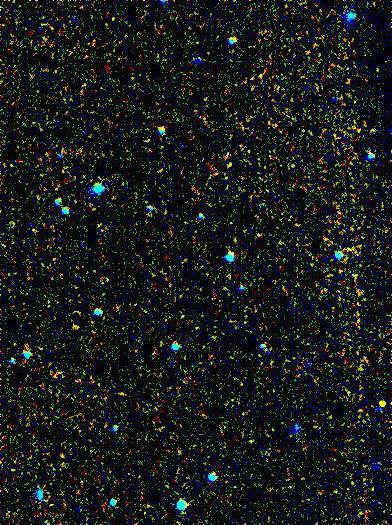star: (366, 389, 392, 419)
